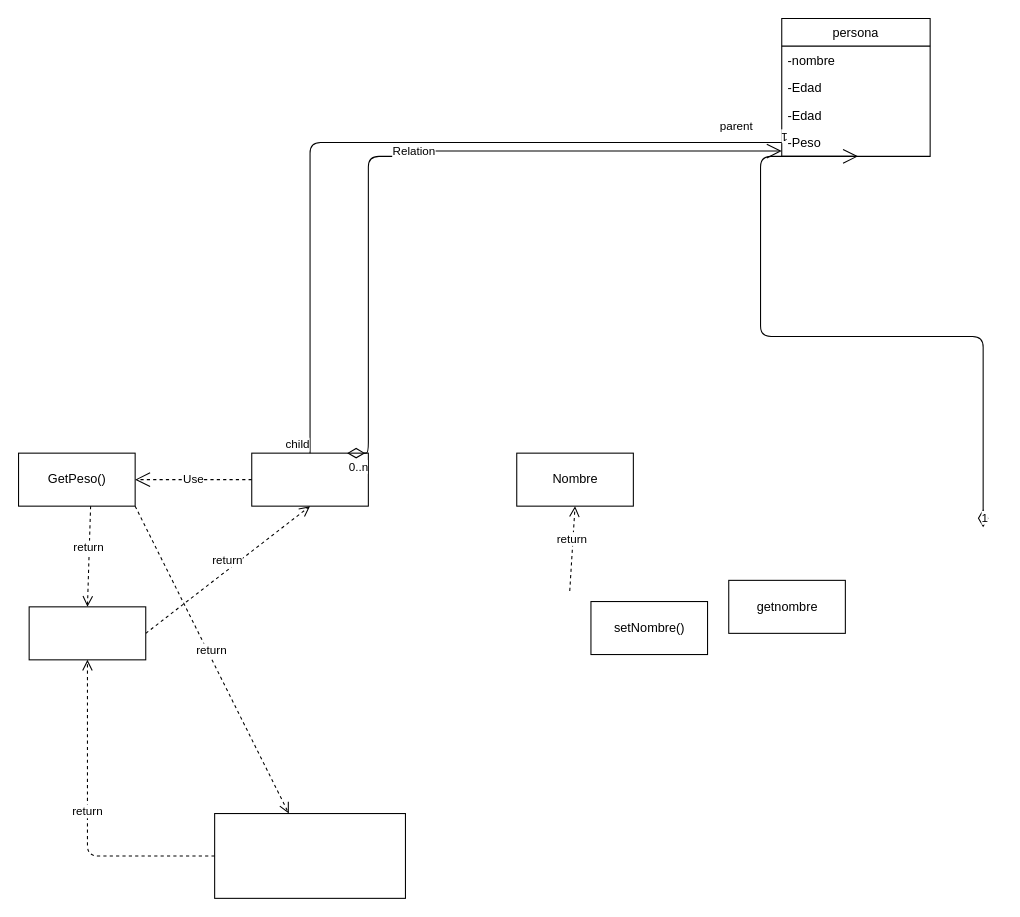
Image size: 1020x917. Some labels were removed from this diagram. The centre of each missing label's shape, as x and y in pixels:
"claculaIndiceMasaCorporal" belongs at point 309,855.
"Peso" belongs at point 309,479.
"setPeso()" belongs at point 87,633.
